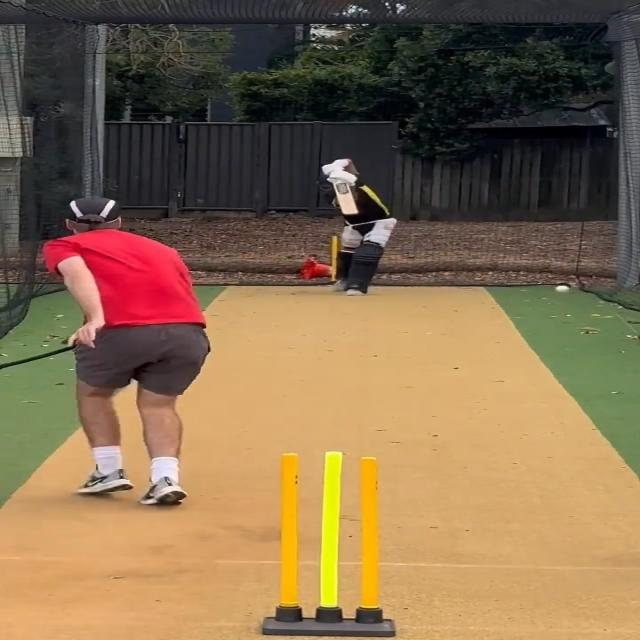ball: (555, 284, 569, 294)
stump: (261, 450, 396, 637)
